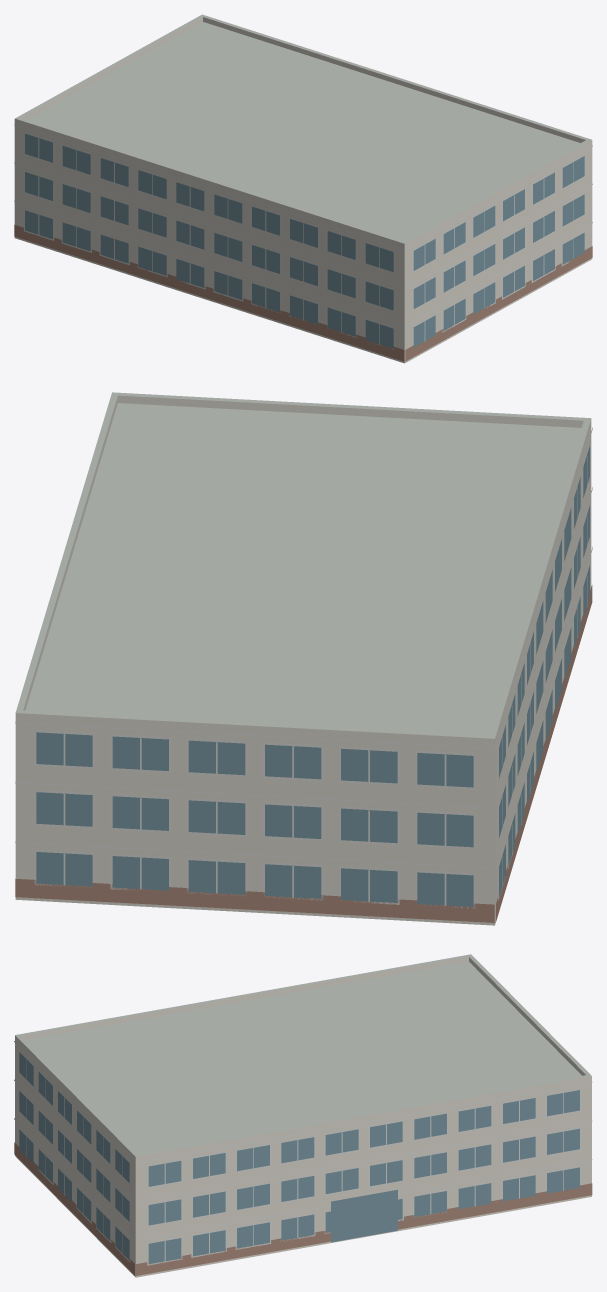
The model's file is public-a946e731-ea5b-4b7a-b629-3c8e39410243.glb.
The picture shows the model from 3 angles, top to bottom: view 1: azimuth 30°, elevation 25°; view 2: azimuth 150°, elevation 25°; view 3: azimuth 270°, elevation 25°; orthographic projection. The views are drawn at different scales.
Parts seen in each view (by area): view 1: public-a946e731-ea5b-4b7a-b629-3c8e39410243; view 2: public-a946e731-ea5b-4b7a-b629-3c8e39410243; view 3: public-a946e731-ea5b-4b7a-b629-3c8e39410243.
Boxes of the visible parts, <box> form: public-a946e731-ea5b-4b7a-b629-3c8e39410243: <box>14,14,592,363</box>; public-a946e731-ea5b-4b7a-b629-3c8e39410243: <box>15,392,592,925</box>; public-a946e731-ea5b-4b7a-b629-3c8e39410243: <box>14,954,592,1277</box>.
Bounding box in the file's own units: 33.05 × 9.15 × 39.74.
